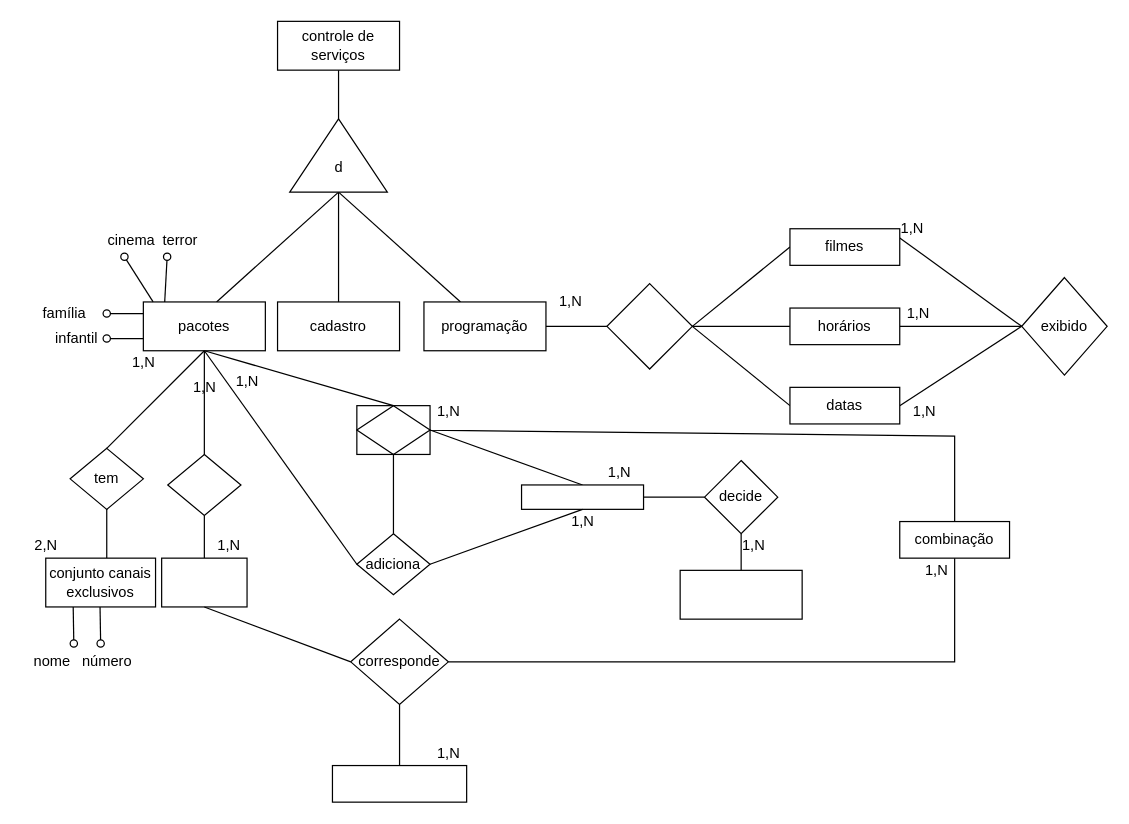
Some shapes in this 1129 by 824 pixel diagram are drawn without their labels. The centre of each missing label's shape, as x and y in pixels:
"cliente" goes at point (582, 496).
"composta por" goes at point (649, 325).
"escolhe" goes at point (393, 429).
"mensalidade" goes at point (399, 783).
"possui" goes at point (204, 484).
"preço" goes at point (203, 582).
"quantidade de tvs" goes at point (740, 594).
